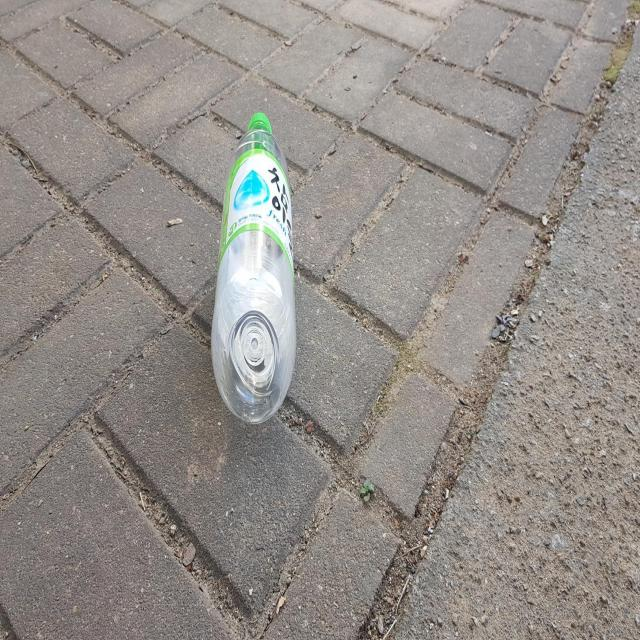plastic: (211, 111, 296, 423)
